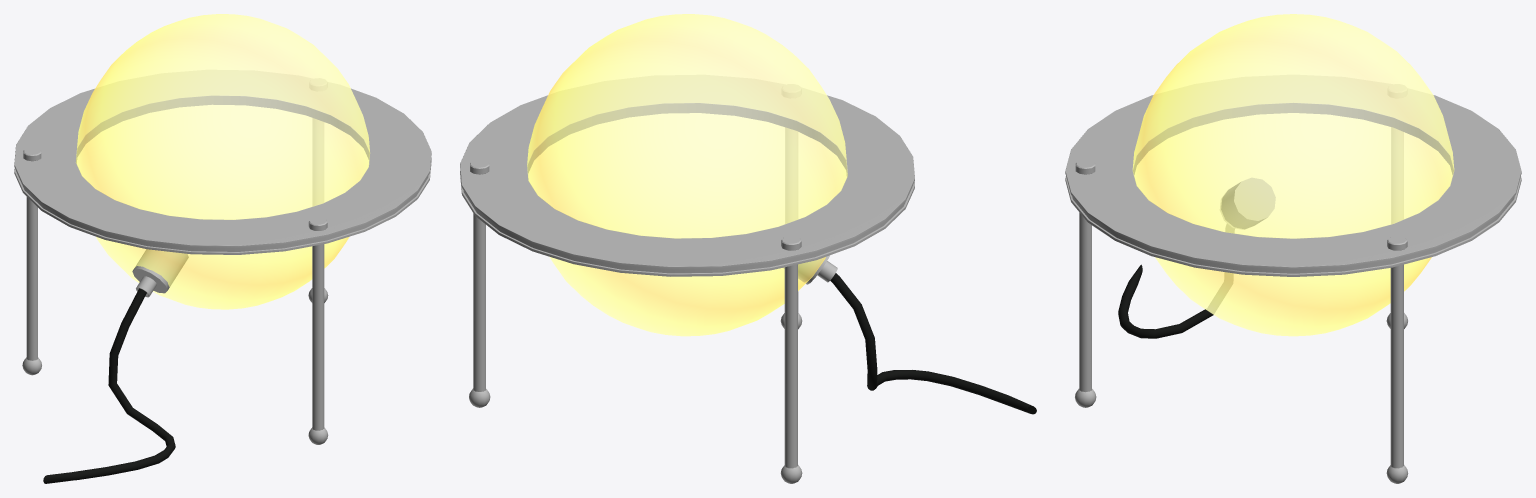
Rendered from saturn_desk_lamp.glb.
3 views of the same model, side by side, from view 1: azimuth 30°, elevation 25°; view 2: azimuth 150°, elevation 25°; view 3: azimuth 270°, elevation 25° (orthographic). The views are drawn at different scales.
Parts seen in each view (by area): view 1: saturnTripod; view 2: saturnTripod; view 3: saturnTripod.
Part boxes in pixels (box(x1,y1,x2,y2)): saturnTripod: box(14, 14, 431, 483); saturnTripod: box(460, 14, 1036, 483); saturnTripod: box(1065, 14, 1521, 483).
Bounding box in the file's own units: 0.4522 × 0.3473 × 0.38.
